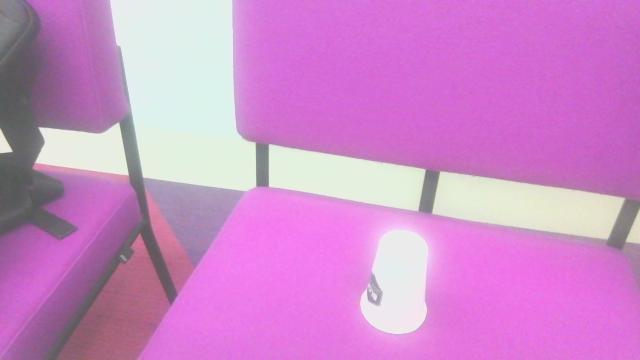cup: (355, 223, 436, 338)
